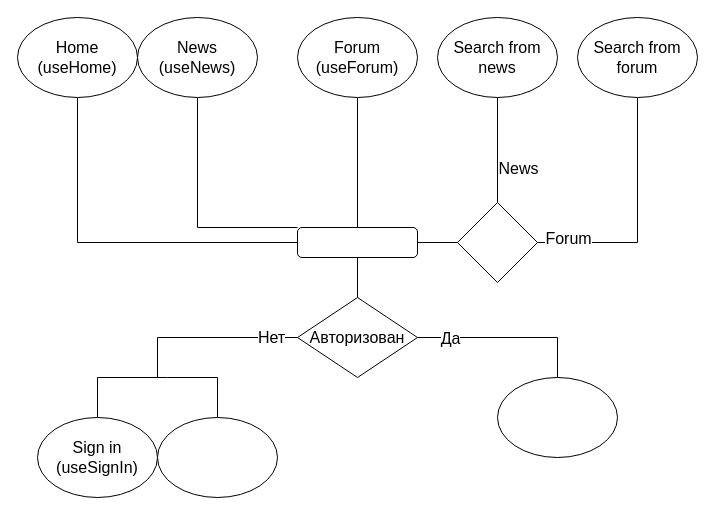
The diagram is 715 pixels wide and 515 high, and some of its shapes have lost their labels. Each missing label, with the centre of its shape:
Profile (useProfile): the point at 557,417
Sign up (useSignUp): the point at 217,457
User: the point at 357,242
